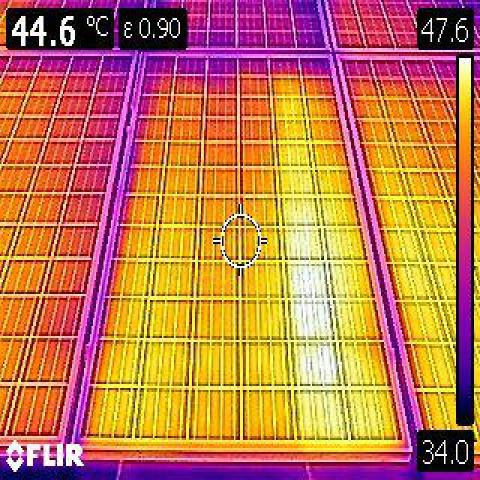fault: (268, 59, 402, 441)
